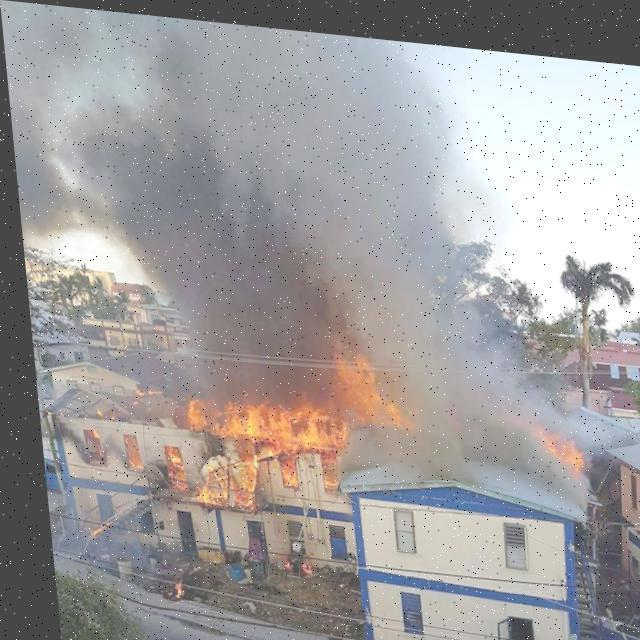Fire: (132, 349, 466, 521)
